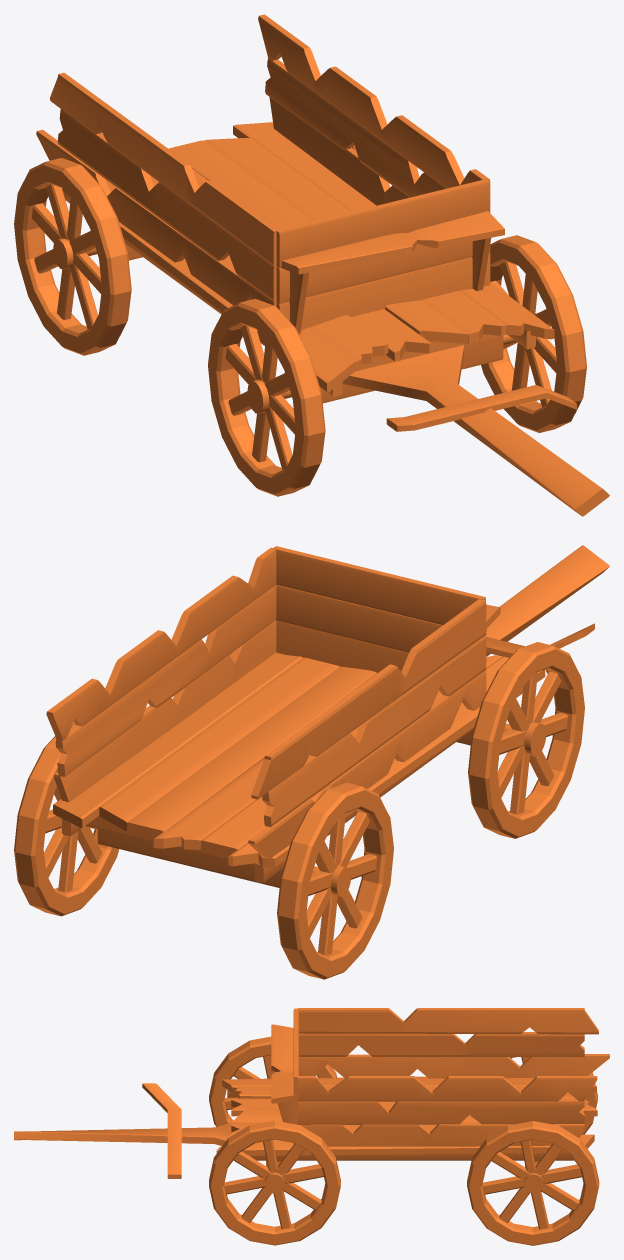
File: Carro_a-4.fbx
3 renders of one model, top to bottom at view 1: azimuth 30°, elevation 25°; view 2: azimuth 150°, elevation 25°; view 3: azimuth 270°, elevation 25°, orthographic. The views are drawn at different scales.
Parts seen in each view (by area): view 1: Carroça-4; view 2: Carroça-4; view 3: Carroça-4.
Part boxes in pixels (<box>): Carroça-4: <box>14,14,609,516</box>; Carroça-4: <box>14,545,609,979</box>; Carroça-4: <box>14,1008,609,1245</box>.
Size of the model in its own units: 228 by 182 by 621.
